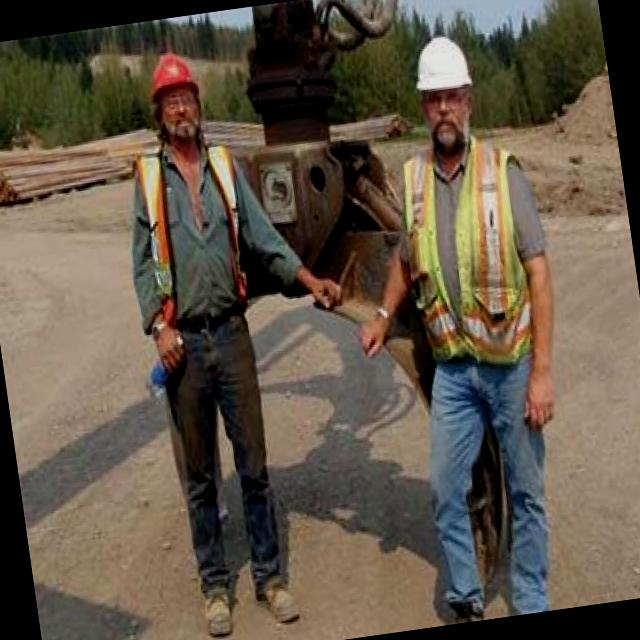helmet: (406, 28, 478, 118), (143, 44, 204, 112)
vest: (396, 148, 530, 378)
